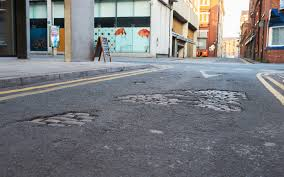pothole: (114, 88, 250, 113), (24, 110, 97, 128)
